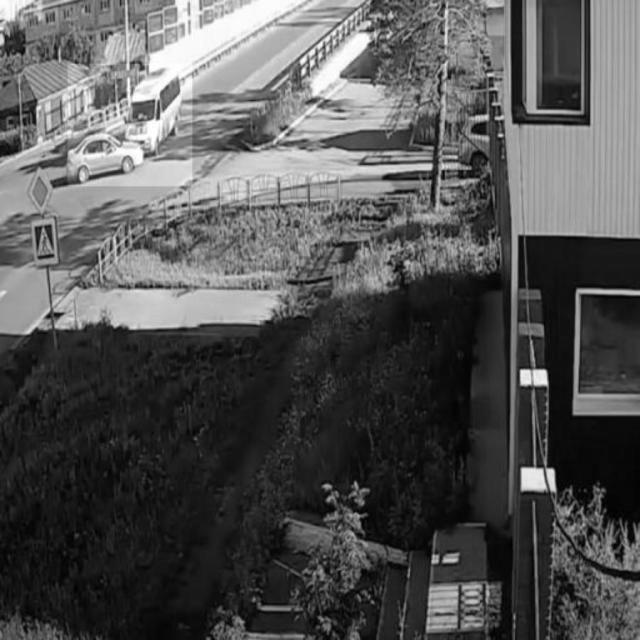accident: (67, 64, 193, 186)
